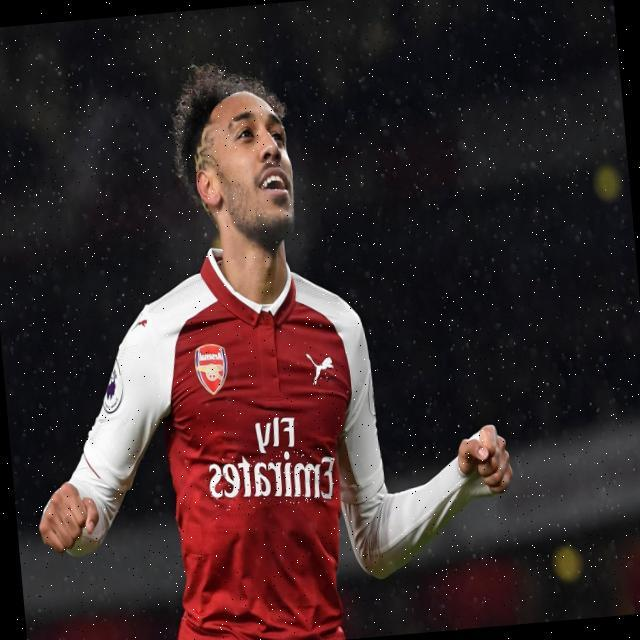Emirates: (207, 445, 338, 511)
Puma: (305, 350, 335, 385)
